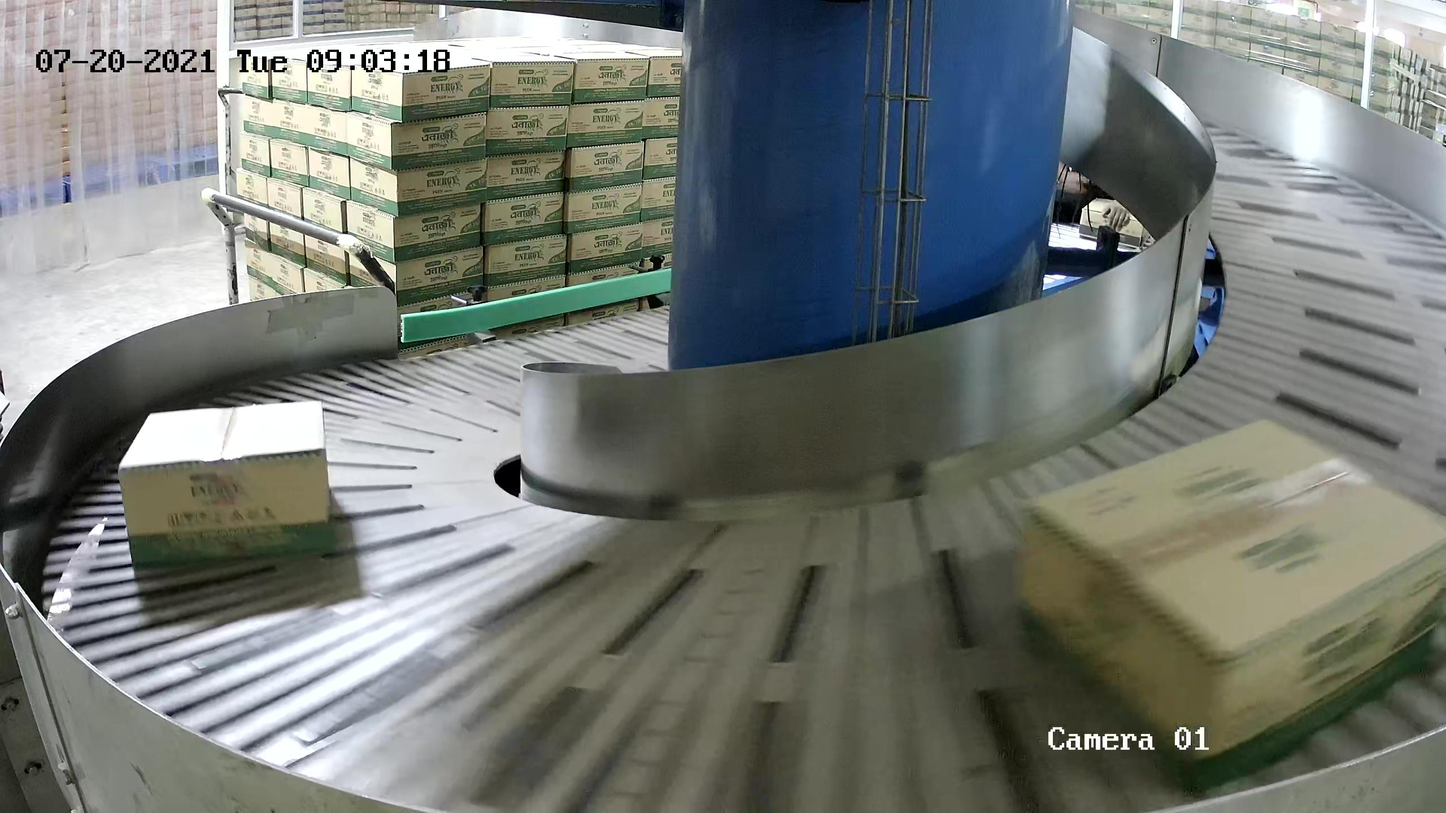Box: (1009, 416, 1446, 799), (116, 398, 334, 566)
